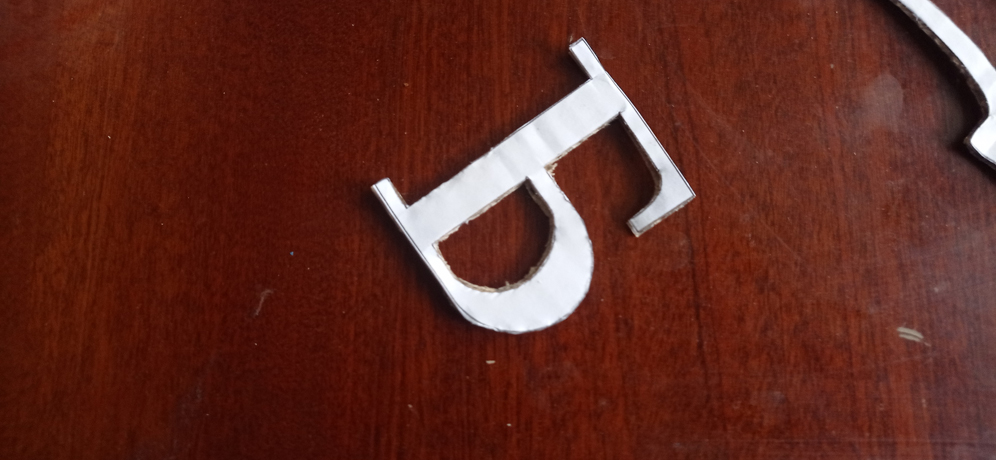b: (371, 37, 697, 338)
